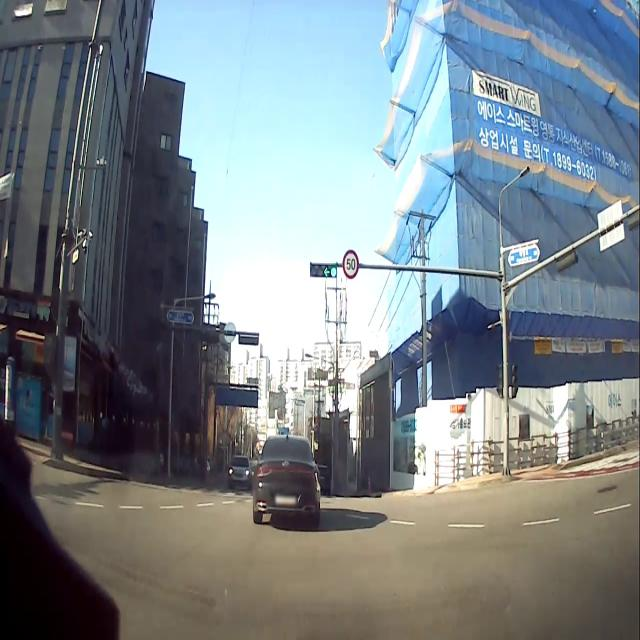Green Light: (330, 266, 337, 278)
